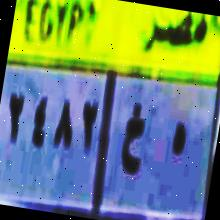2: (1, 87, 28, 147), (76, 93, 101, 152)
4: (25, 94, 52, 156)
8: (47, 96, 78, 160)
haa: (164, 109, 192, 168)
khaa: (112, 98, 153, 174)
